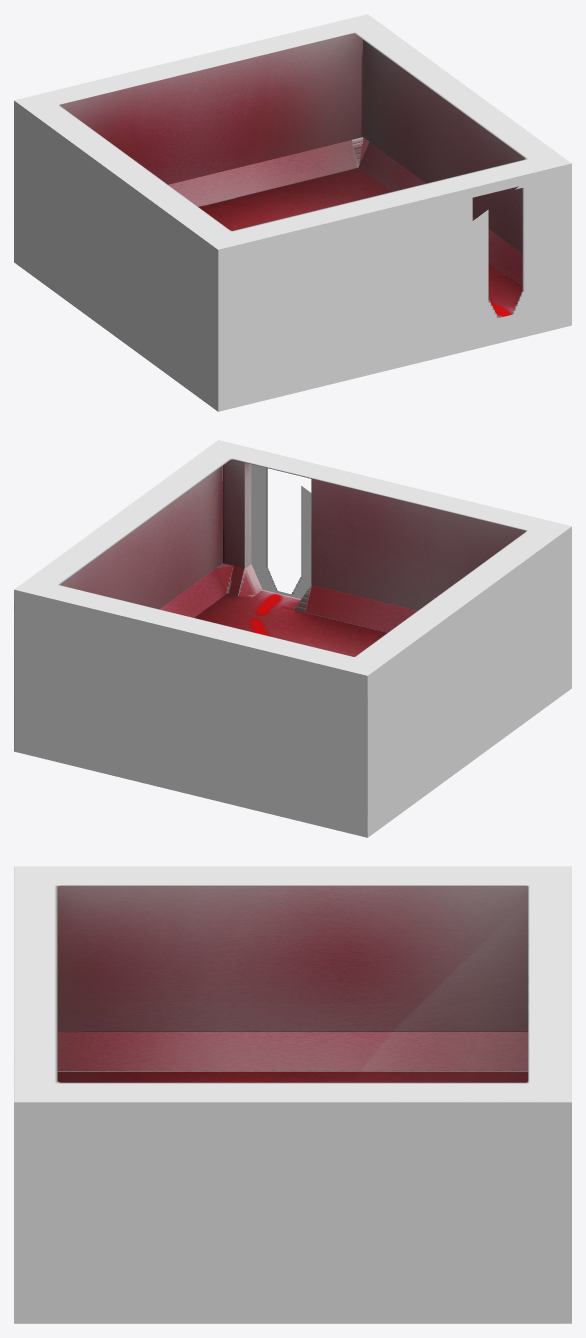
The model's file is housewithtexture.obj.
3 renders of one model, top to bottom at view 1: azimuth 30°, elevation 25°; view 2: azimuth 150°, elevation 25°; view 3: azimuth 270°, elevation 25°, orthographic. The views are drawn at different scales.
Parts seen in each view (by area): view 1: Cube_Cube.001; view 2: Cube_Cube.001; view 3: Cube_Cube.001.
Part boxes in pixels (x1,y1,x2,y2): Cube_Cube.001: (14,14,571,411); Cube_Cube.001: (14,440,571,837); Cube_Cube.001: (14,866,571,1323).
Bounding box in the file's own units: 16 × 7 × 16.
